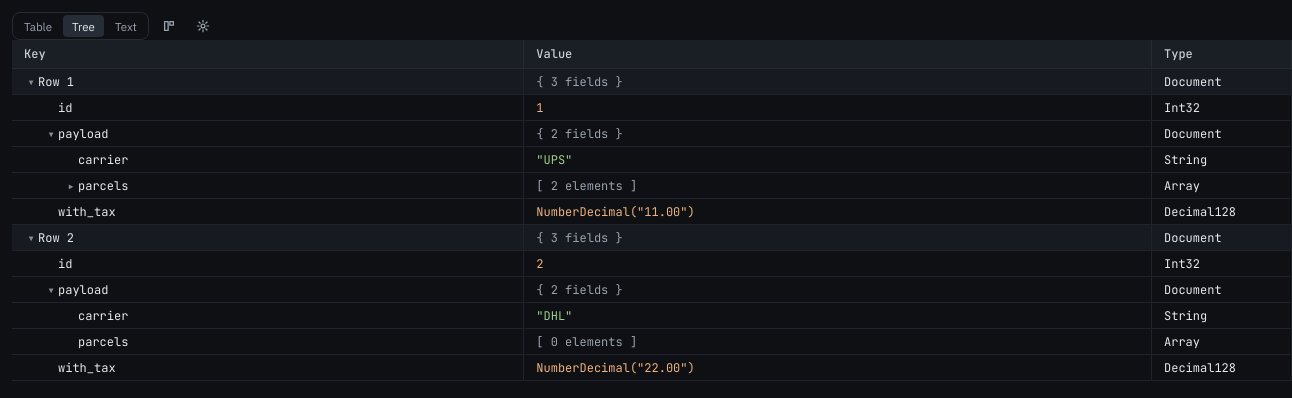
Test: Tree view › collapses and expands a node (spec: data-grid › JSON in tree view)
This screenshot has width=1292, height=398.
Click the button named "Collapse Row 1". click: (31, 82)
box: left=24, top=74, right=38, bottom=90
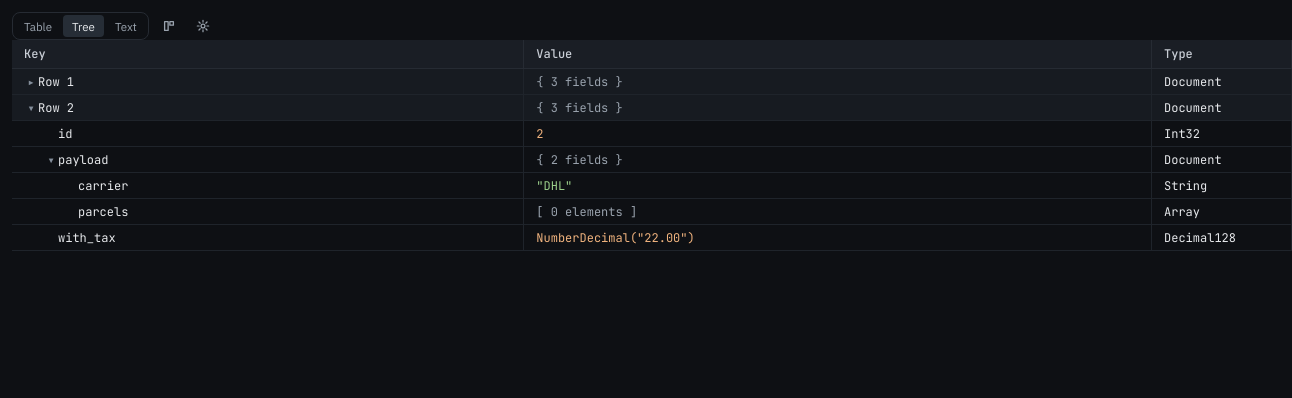
Now the text "\"UPS\"" is gone
